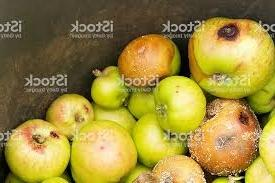rotten apple: (180, 15, 274, 94), (192, 96, 262, 171), (0, 117, 71, 180), (117, 35, 185, 88), (41, 92, 93, 133), (150, 155, 199, 183)
